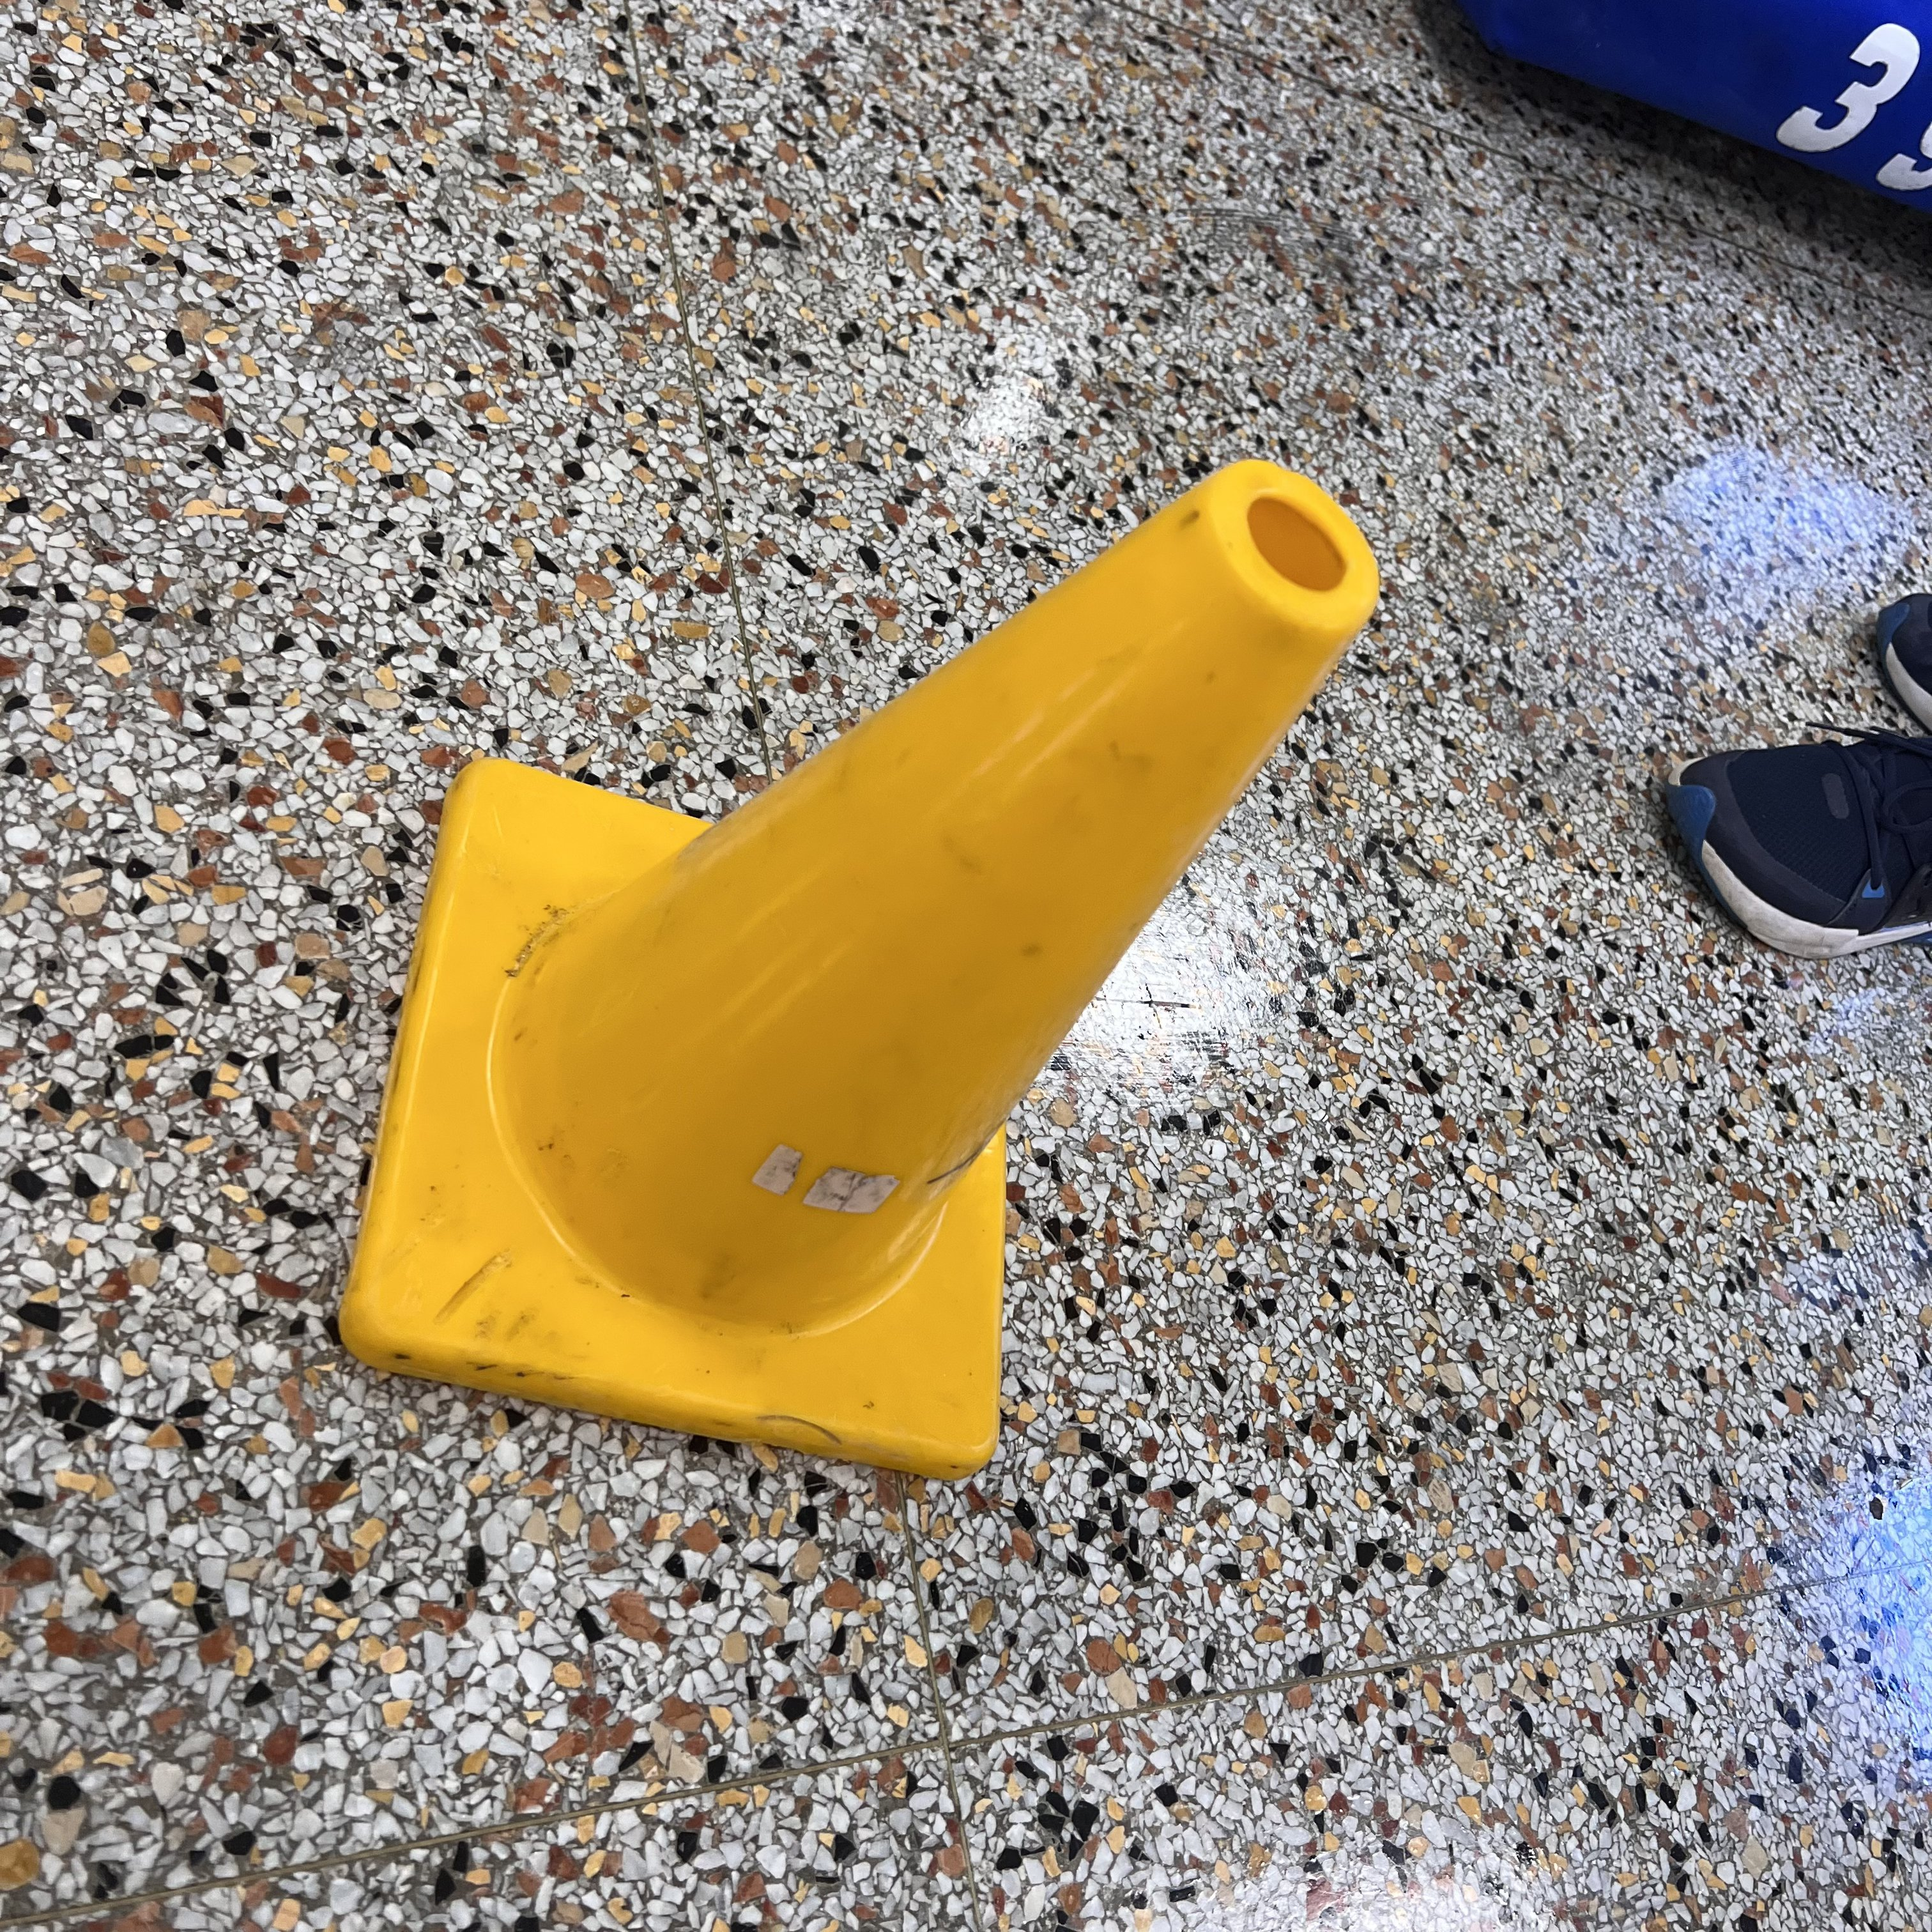cone: (340, 458, 1380, 1481)
